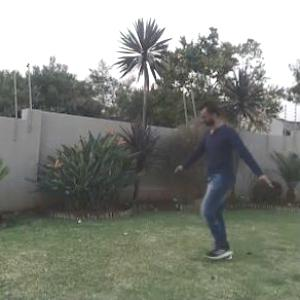land: (164, 85, 280, 274)
